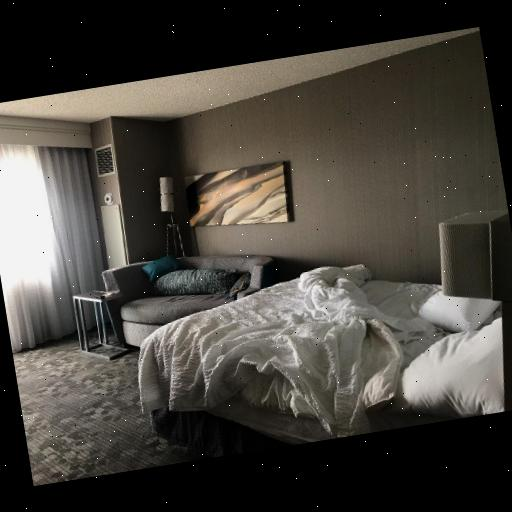messy_bed: (137, 262, 506, 461)
